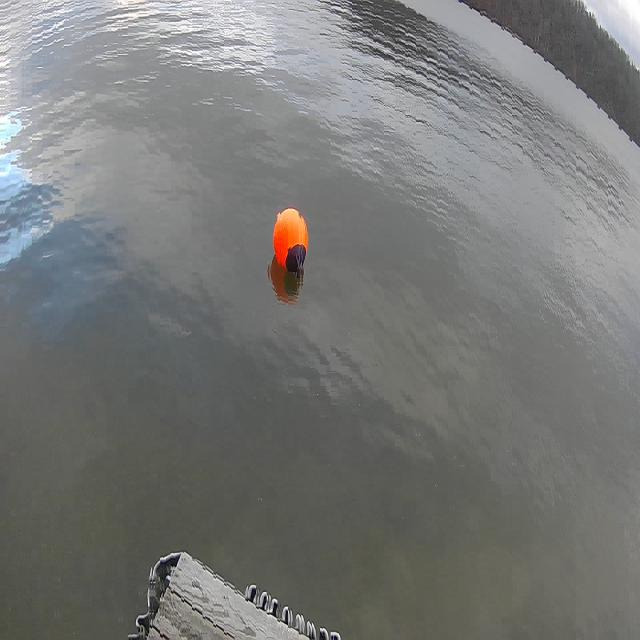Buoy: (268, 193, 312, 286)
